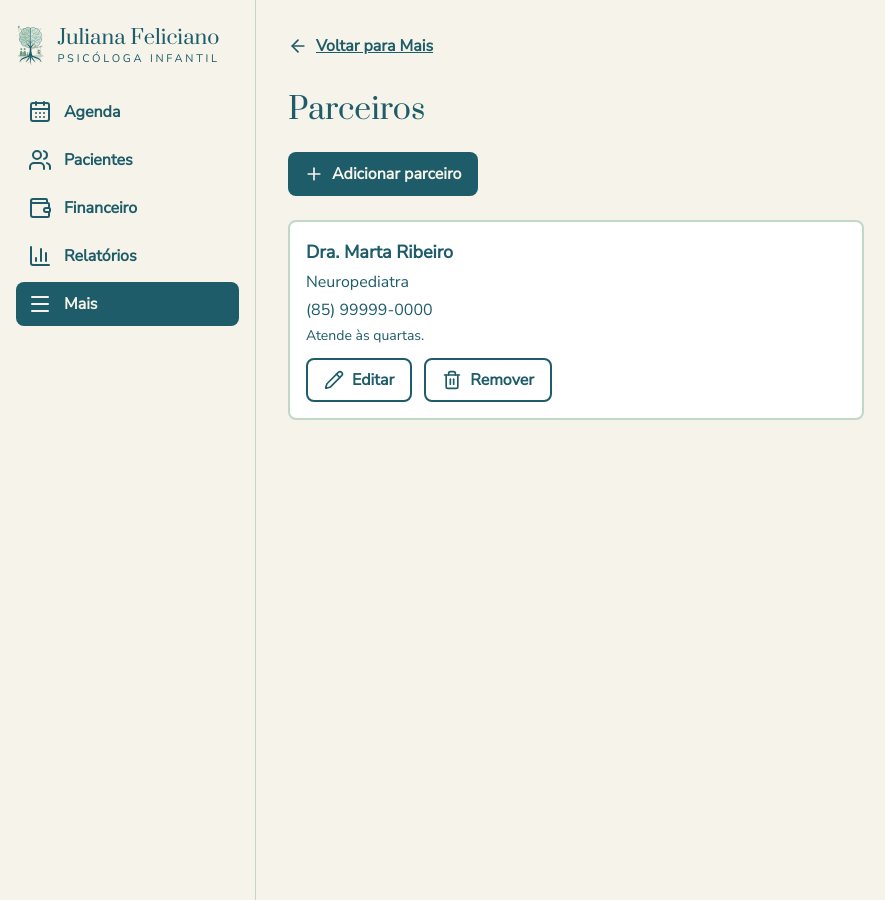
TelaParceiros › edita um parceiro: o formulário vem preenchido e salvar atualiza o mesmo registro
Click the button with aria-label "Editar Dra. Marta Ribeiro". click: (359, 380)
box: [306,358,412,402]
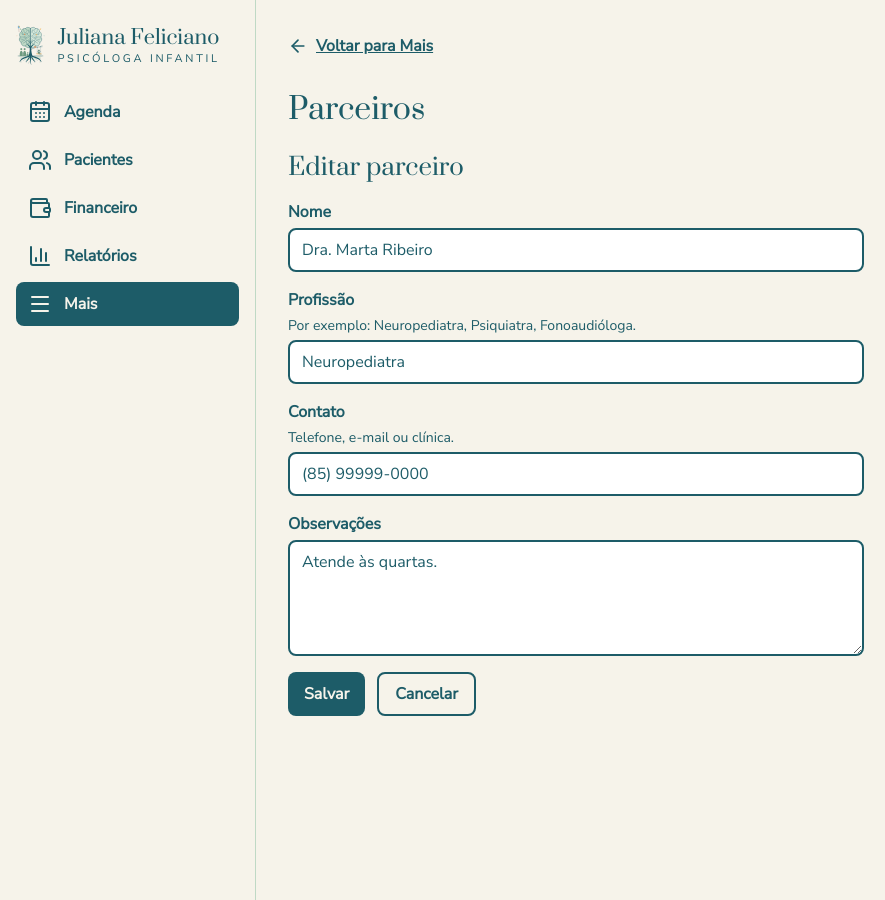
Result: the field labelled "Nome" holds "Dra. Marta Ribeiro" at [288,228,864,272]
Result: the field labelled "Profissão" holds "Neuropediatra" at [288,340,864,384]
Result: the field labelled "Contato" holds "(85) 99999-0000"
Replace the text in the field labelled "Contato" with "(85) 98888-1111". click: (576, 474)
box: [288,452,864,496]
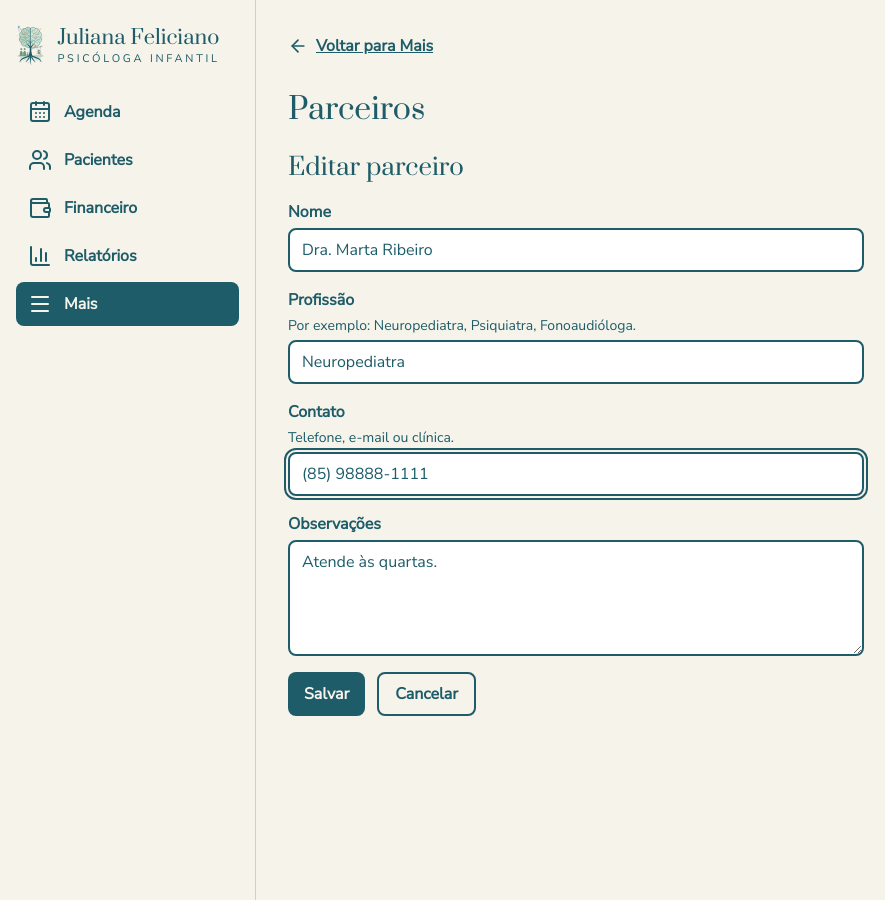
Click the button "Salvar". click: (327, 694)
box: [288,672,365,716]
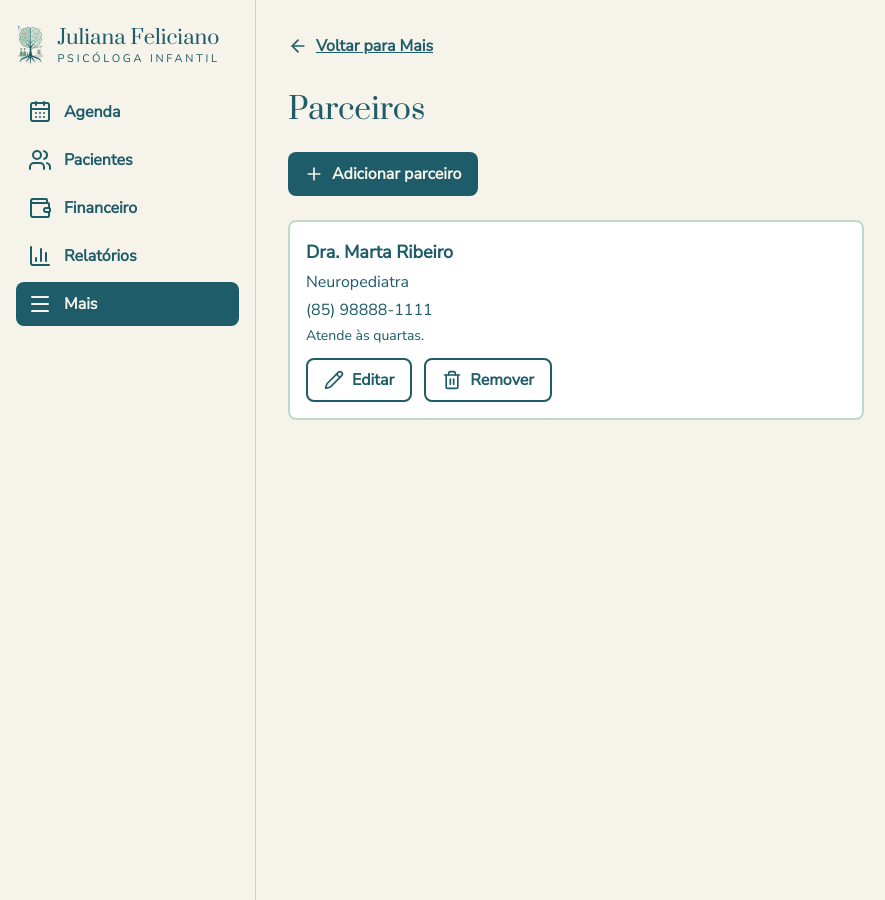
Result: the text "(85) 98888-1111" is shown at [306,299,433,321]
